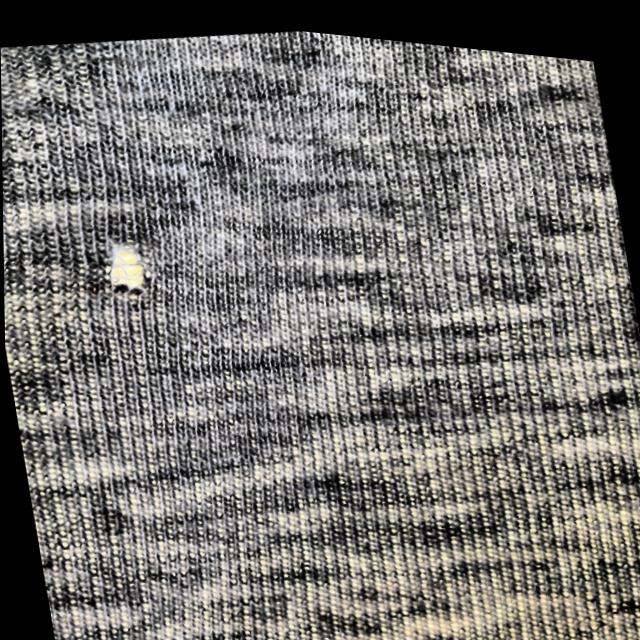Hole: (86, 223, 166, 307)
